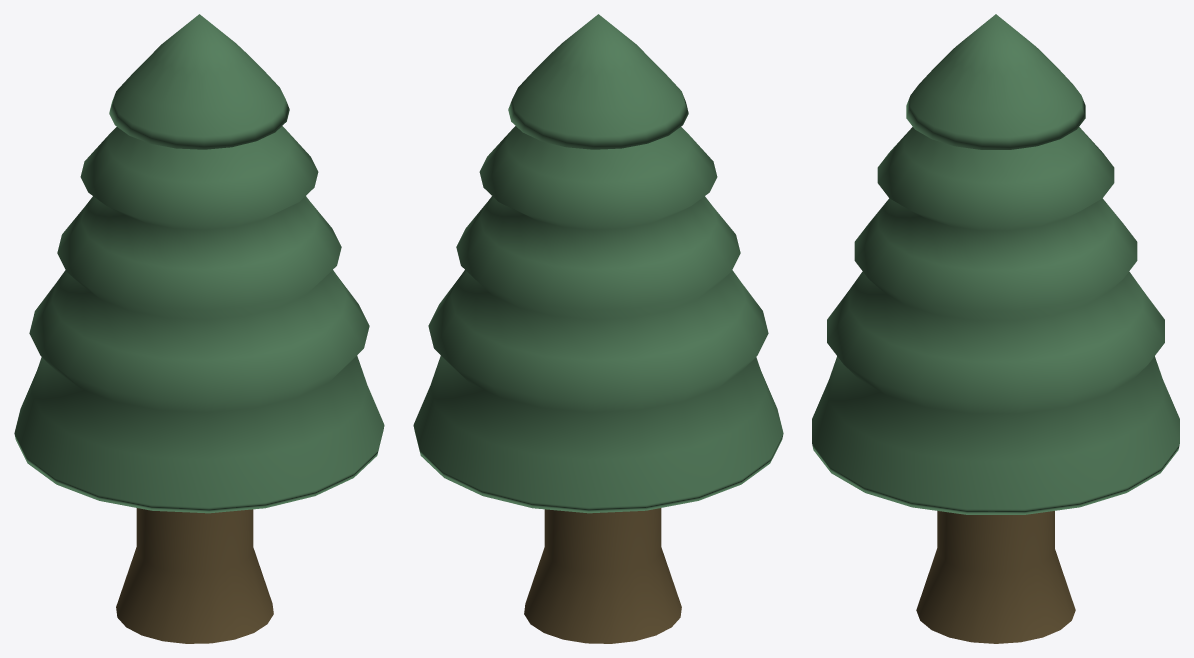
File: Arbol2.fbx
3 views of the same model, side by side, from view 1: azimuth 30°, elevation 25°; view 2: azimuth 150°, elevation 25°; view 3: azimuth 270°, elevation 25° (orthographic).
Visible parts, largest first — view 1: pCone2; view 2: pCone2; view 3: pCone2.
Part boxes in pixels (x1,y1,x2,y2): pCone2: [14, 14, 384, 643]; pCone2: [413, 14, 783, 643]; pCone2: [812, 14, 1179, 643].
Size of the model in its own units: 4.45 by 7.99 by 4.45.
